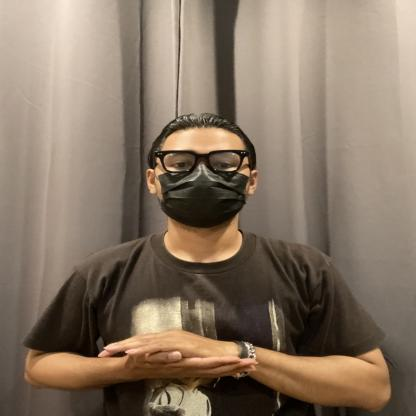Love: (59, 308, 301, 404)
